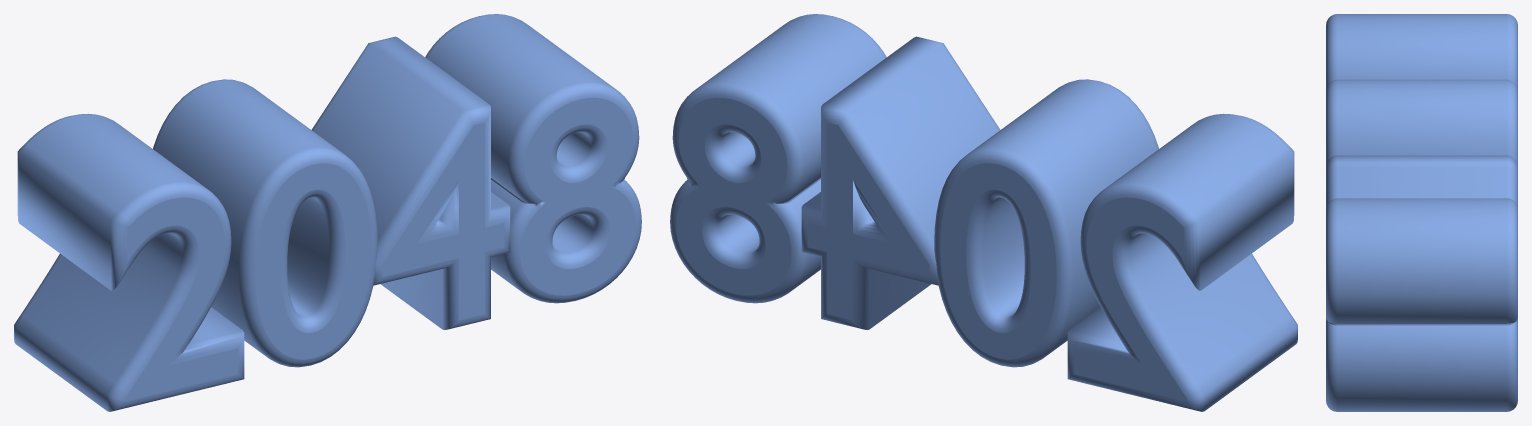
The model's file is hint.glb.
The picture shows the model from 3 angles, left to right: view 1: azimuth 30°, elevation 25°; view 2: azimuth 150°, elevation 25°; view 3: azimuth 270°, elevation 25°; orthographic projection. The views are drawn at different scales.
Visible parts, largest first — view 1: Text; view 2: Text; view 3: Text.
Part boxes in pixels (x1=…): Text: x1=14, y1=14, x2=641, y2=411; Text: x1=670, y1=14, x2=1297, y2=411; Text: x1=1326, y1=14, x2=1517, y2=411.
Bounding box in the file's own units: 2.01 × 0.7803 × 0.68.
